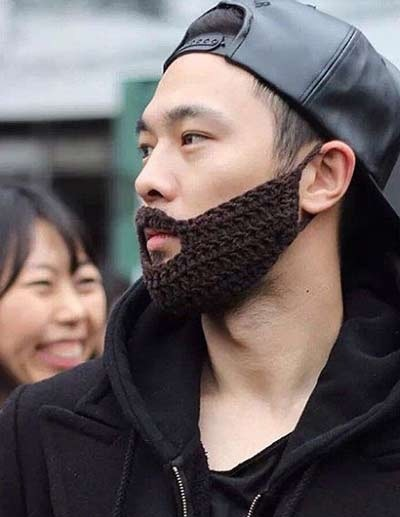face: (130, 40, 284, 299), (4, 217, 105, 393)
